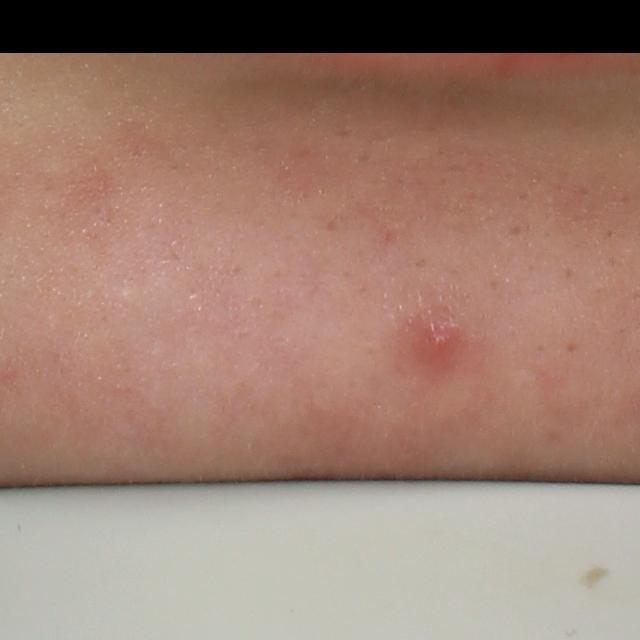papule: (419, 320, 459, 366)
